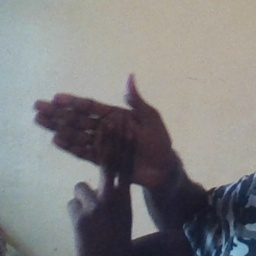N: (21, 72, 176, 222)
